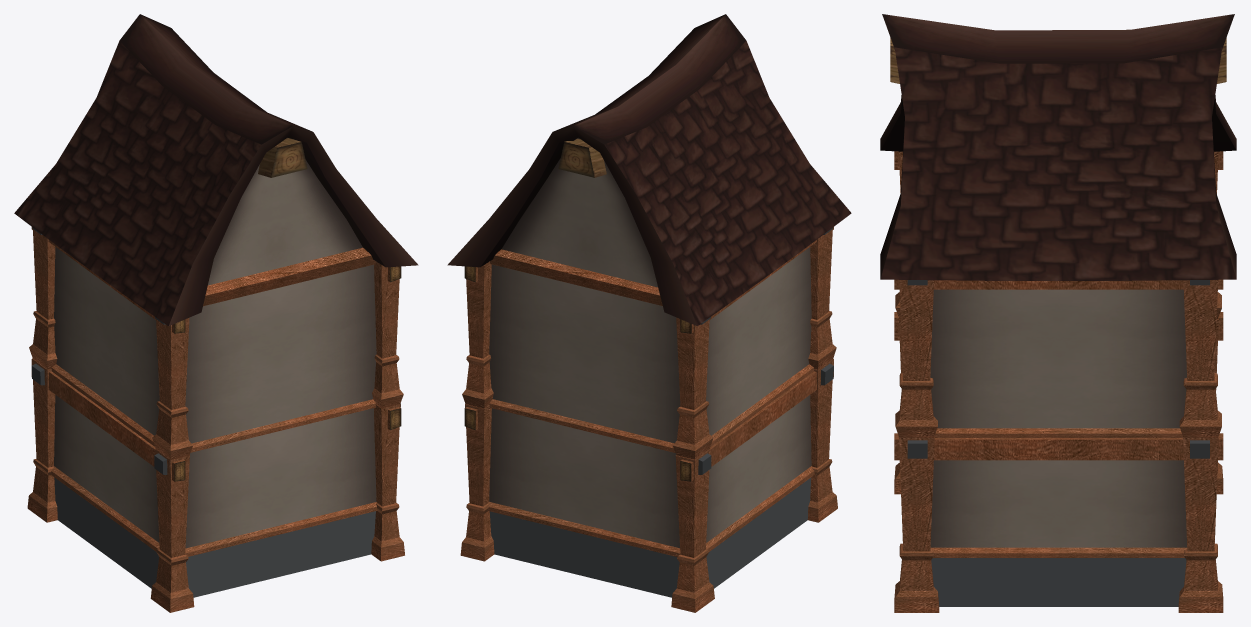
Rendered from fanasty_mod_S2_D_house.fbx.
3 renders of one model, left to right at view 1: azimuth 30°, elevation 25°; view 2: azimuth 150°, elevation 25°; view 3: azimuth 270°, elevation 25°, orthographic. The views are drawn at different scales.
Parts seen in each view (by area): view 1: s2_D_house; view 2: s2_D_house; view 3: s2_D_house.
Boxes of the visible parts, x1,y1,x2,y2 form: s2_D_house: (14, 14, 418, 612); s2_D_house: (447, 14, 851, 612); s2_D_house: (880, 14, 1236, 612).
Bounding box in the file's own units: 6.36 × 11.22 × 6.79.
